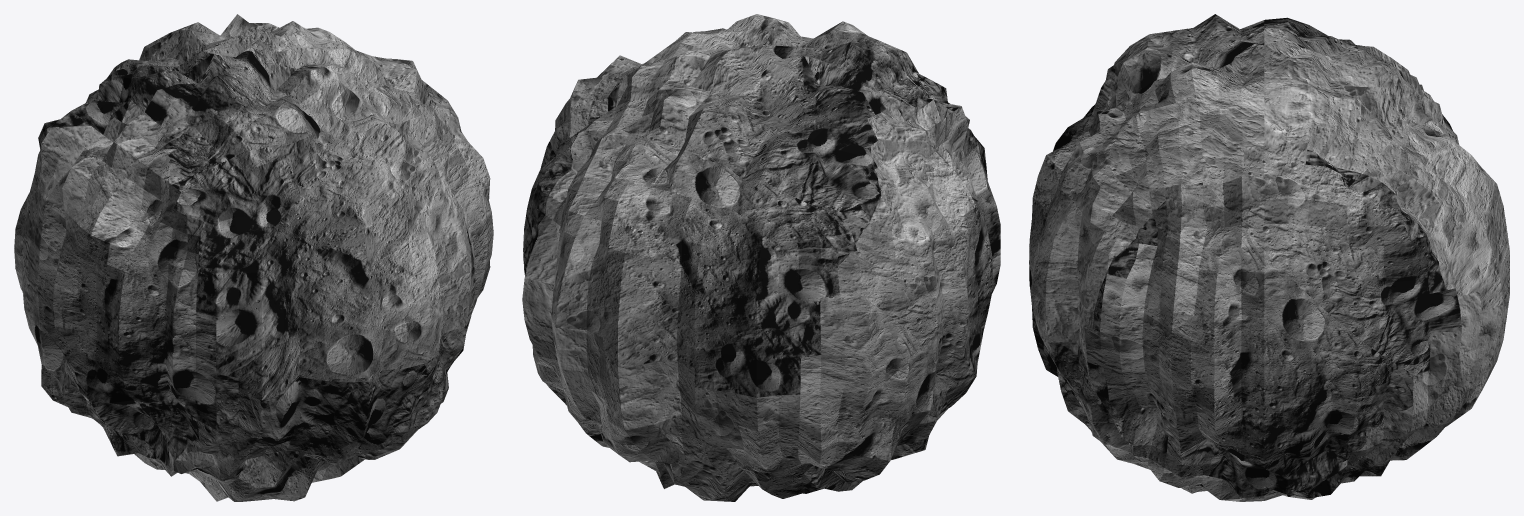
Rendered from asteroid32.obj.
3 renders of one model, left to right at view 1: azimuth 30°, elevation 25°; view 2: azimuth 150°, elevation 25°; view 3: azimuth 270°, elevation 25°, orthographic. The views are drawn at different scales.
Visible parts, largest first — view 1: Cube_Cube.002; view 2: Cube_Cube.002; view 3: Cube_Cube.002.
Part boxes in pixels (bbox=[...]): Cube_Cube.002: bbox=[14, 14, 493, 501]; Cube_Cube.002: bbox=[522, 14, 1000, 501]; Cube_Cube.002: bbox=[1029, 14, 1509, 501].
Size of the model in its own units: 1.8 by 1.77 by 1.78.
